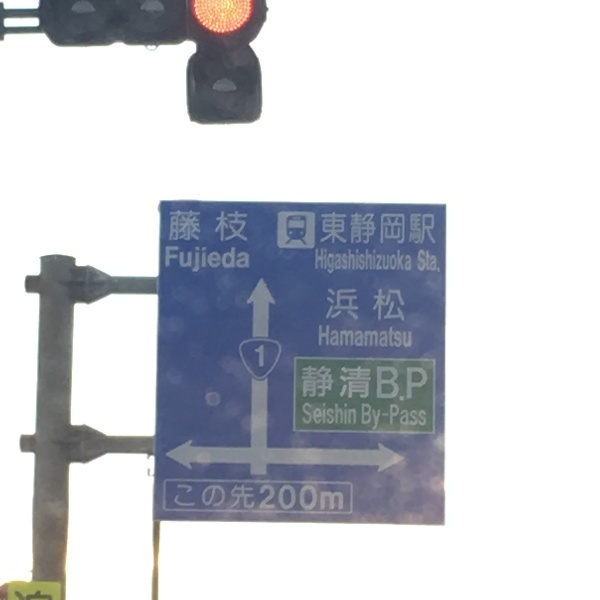text: (321, 210, 336, 250), (337, 210, 352, 250), (353, 210, 368, 250), (369, 210, 384, 250), (385, 210, 400, 250), (401, 210, 416, 250), (417, 210, 432, 250), (337, 286, 352, 323), (353, 286, 368, 323), (369, 286, 384, 323), (385, 286, 400, 323), (305, 365, 320, 402), (321, 365, 336, 402), (337, 365, 352, 402), (353, 365, 368, 402), (369, 365, 384, 402), (385, 365, 400, 402), (401, 365, 416, 402), (177, 209, 192, 244), (193, 209, 208, 244), (209, 209, 224, 244), (225, 209, 240, 244), (177, 484, 192, 517), (193, 484, 208, 517), (209, 484, 224, 517), (225, 484, 240, 517), (241, 484, 256, 517), (257, 484, 272, 517), (273, 484, 288, 517), (289, 484, 304, 517), (305, 484, 320, 517), (321, 484, 336, 517), (177, 244, 192, 274), (193, 244, 208, 274), (209, 244, 224, 274), (225, 244, 240, 274), (321, 247, 336, 276), (337, 247, 352, 276), (353, 247, 368, 276), (369, 247, 384, 276), (385, 247, 400, 276), (369, 402, 384, 430), (385, 402, 400, 430), (401, 402, 416, 430), (417, 365, 428, 402), (321, 323, 336, 350), (337, 323, 352, 350), (353, 323, 368, 350), (369, 323, 384, 350), (385, 323, 400, 350), (417, 249, 432, 274), (305, 402, 320, 427), (321, 402, 336, 427), (337, 402, 352, 427), (401, 247, 413, 276), (327, 286, 336, 323), (165, 244, 176, 274), (401, 323, 413, 350), (241, 244, 251, 274), (417, 402, 427, 430), (337, 484, 345, 517), (241, 209, 248, 244), (360, 402, 368, 430), (170, 209, 176, 244), (433, 249, 441, 274), (401, 286, 406, 323), (257, 344, 264, 369), (433, 210, 437, 250), (315, 247, 320, 276), (353, 402, 358, 427), (301, 365, 304, 402), (174, 484, 176, 517), (318, 323, 320, 350), (302, 402, 304, 427), (319, 210, 320, 250), (255, 344, 256, 369)
